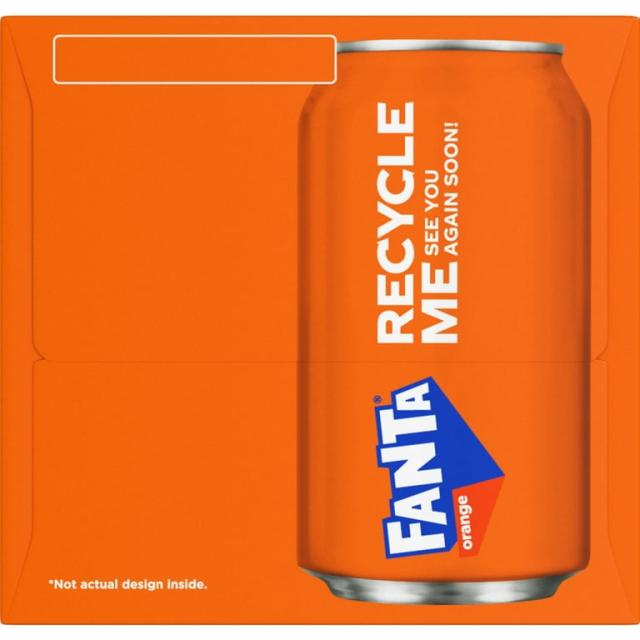fanta: (299, 21, 595, 618)
